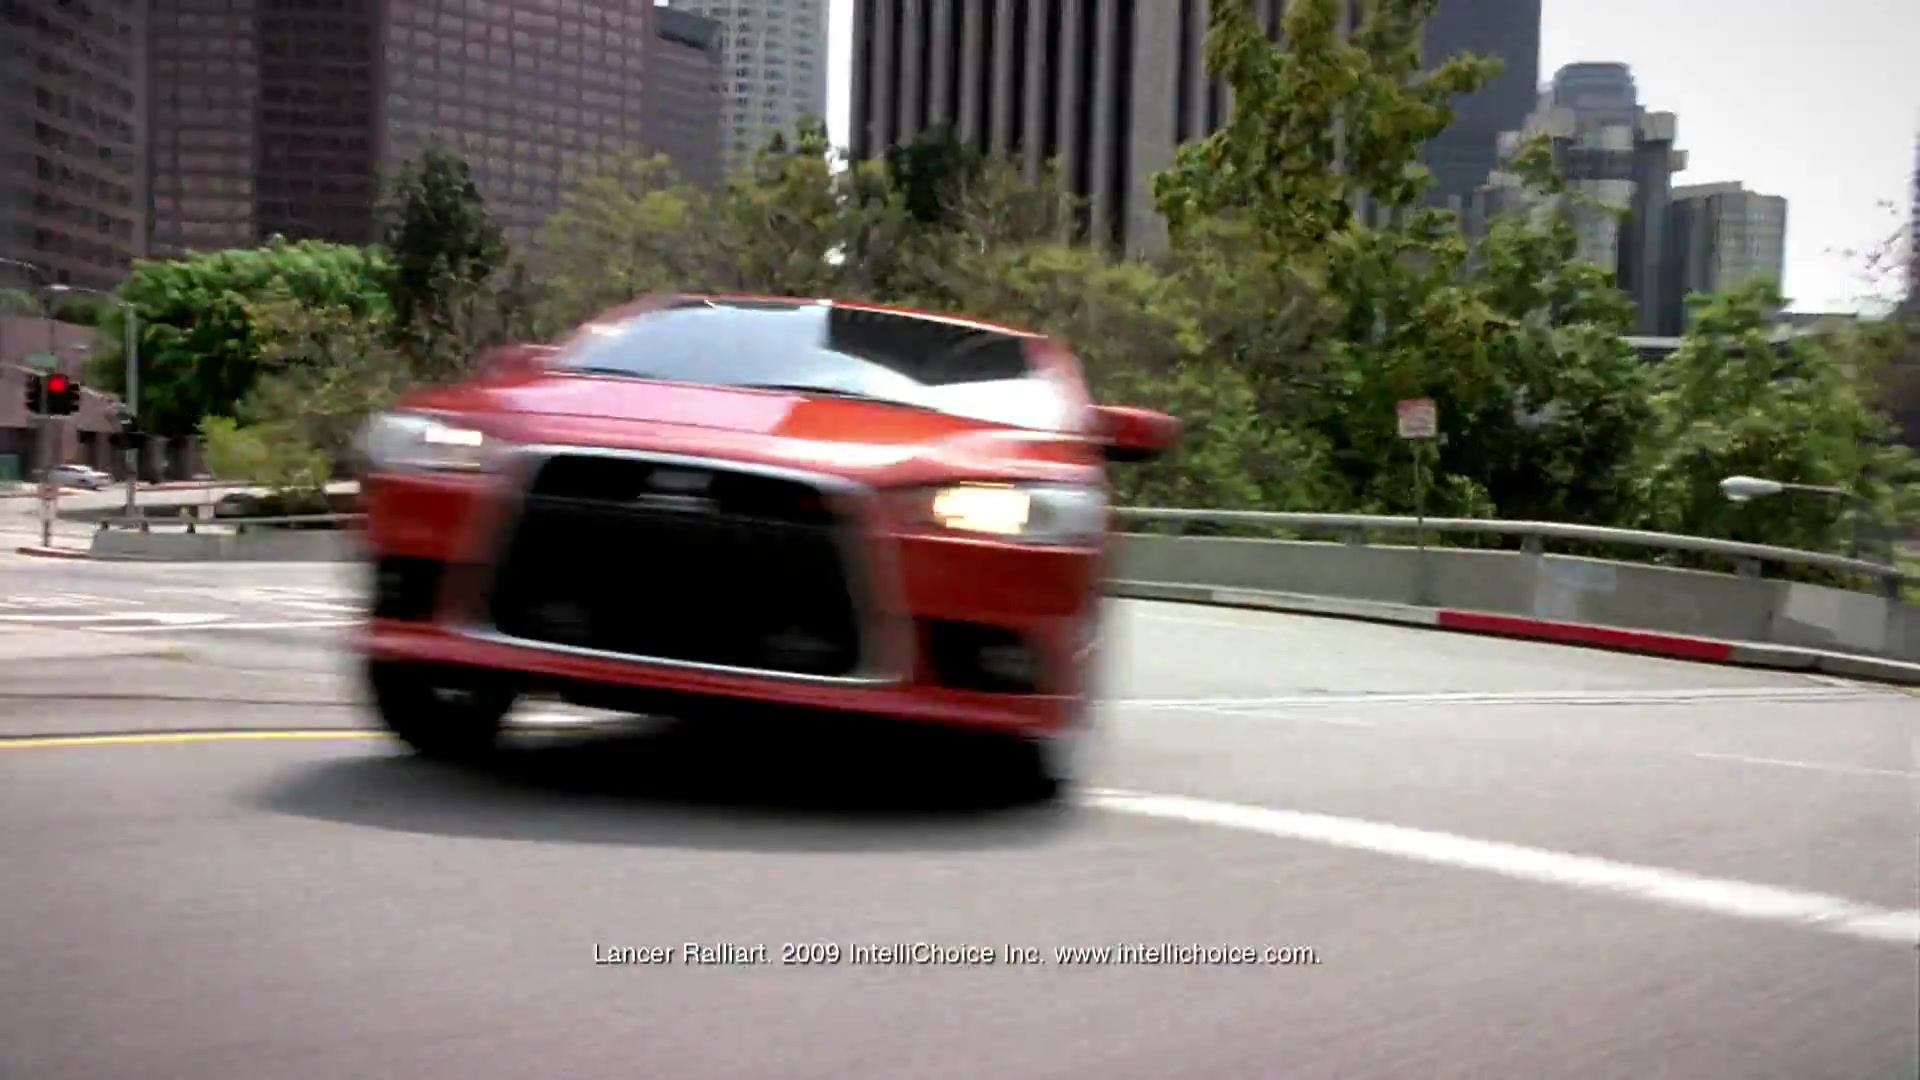car: (345, 273, 1184, 800)
